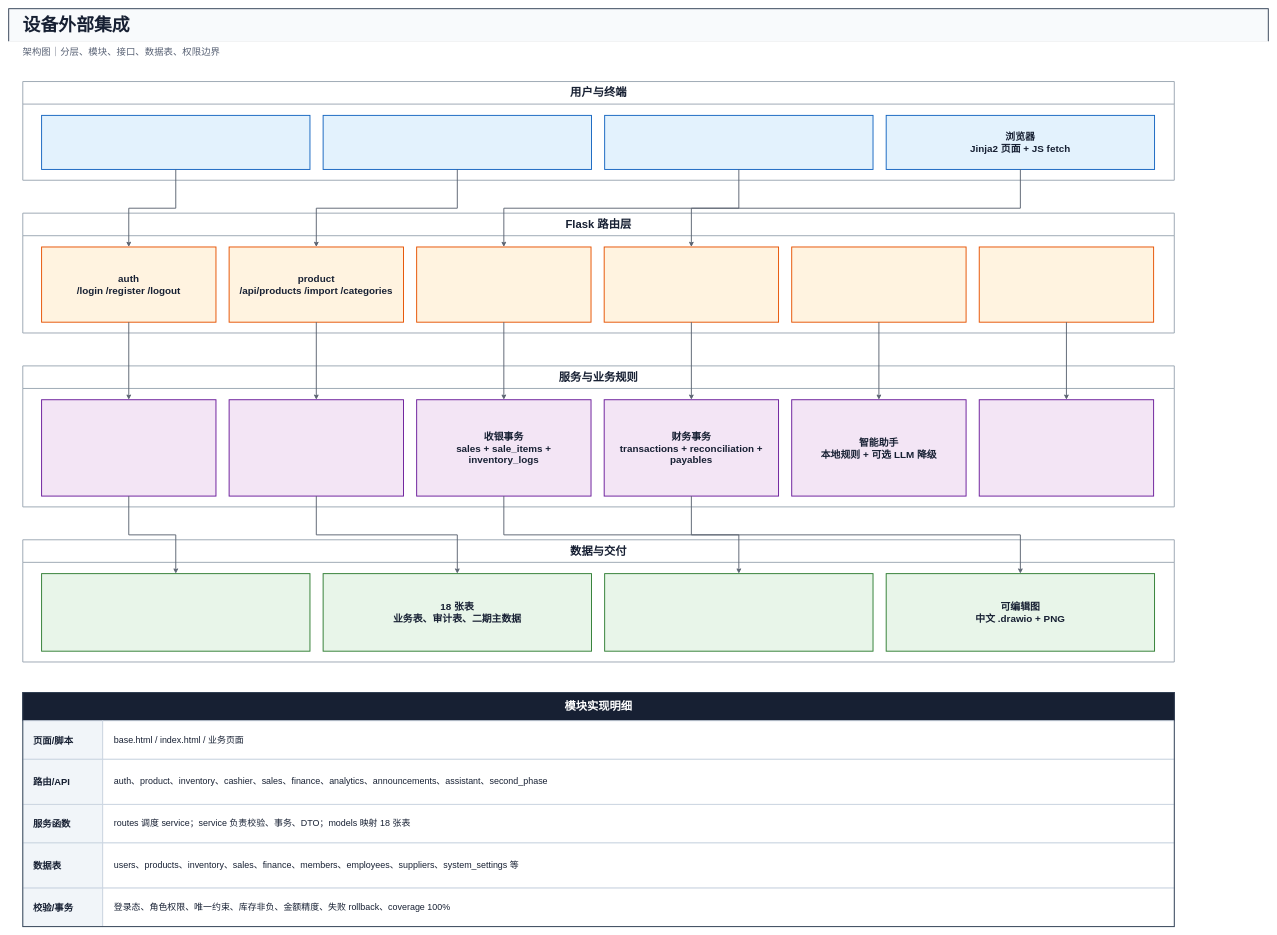
The diagram is 1277 pixels wide and 935 high, and some of its shapes have lost their labels. The shapes that lost their labels are listed below. From the top down, each one's centre as x and y in pixels, then its label:
At point (175, 142): "管理员 商品/库存/财务/公告/二期主数据".
At point (457, 142): "收银员 收银/销售/公告/助手".
At point (738, 142): "店长/财务 分析/对账/验收".
At point (503, 284): "inventory /summary /list /logs /alerts".
At point (691, 284): "cashier/sales /checkout /orders /detail".
At point (878, 284): "finance /overview /reconciliation /payables".
At point (1066, 284): "second_phase /members /employees /suppliers /settings".
At point (128, 447): "权限 login_required/admin_required".
At point (316, 447): "商品库存 create/update/import + set_inventory_quantity".
At point (1066, 447): "测试 pytest + coverage 100%".
At point (175, 612): "SQLite schema.sql + seed_data.sql".
At point (738, 612): "报告 docx + 57 主图 + 12 用例图".
